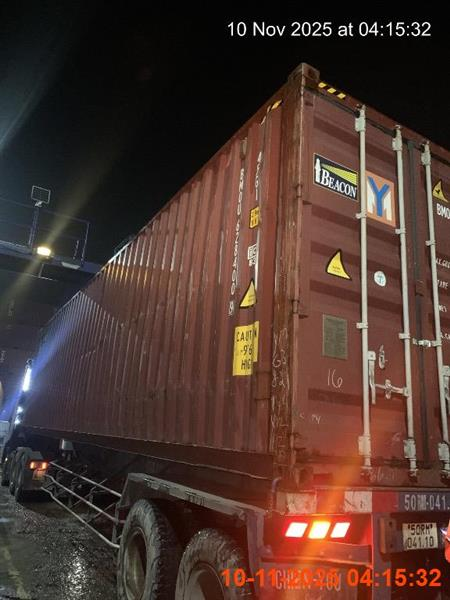hole: (1, 64, 449, 599)
